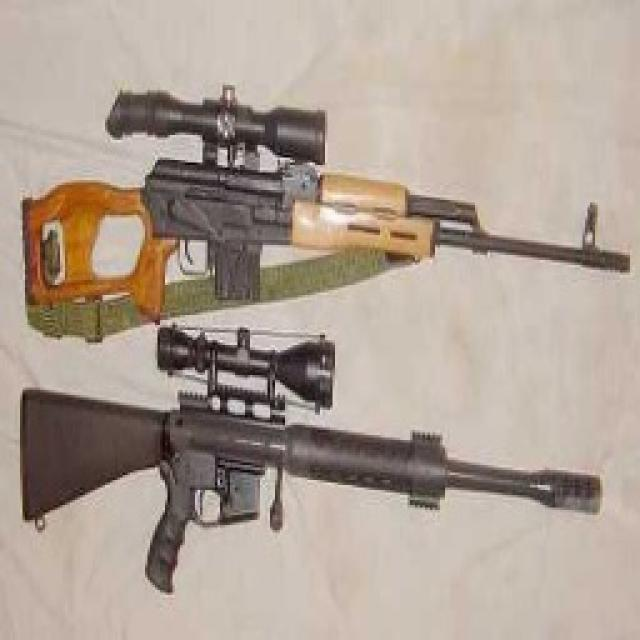long weapon: (26, 336, 604, 614), (35, 68, 611, 311)
